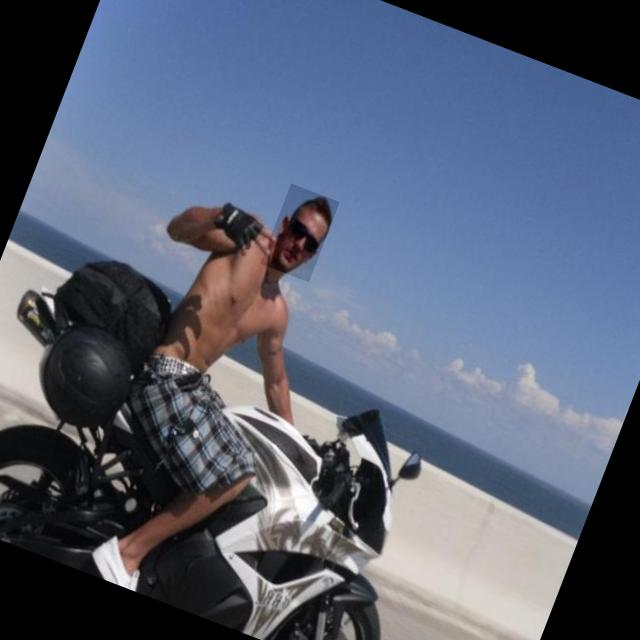without helmet: (260, 184, 340, 282)
